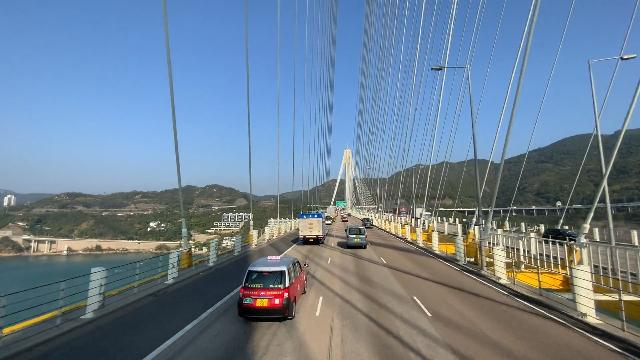car: (237, 251, 311, 323), (325, 215, 333, 225), (342, 215, 348, 222), (344, 213, 349, 218)
truck: (297, 212, 329, 248), (327, 206, 339, 222)
van: (341, 223, 371, 249), (542, 228, 579, 244), (361, 217, 373, 229)
